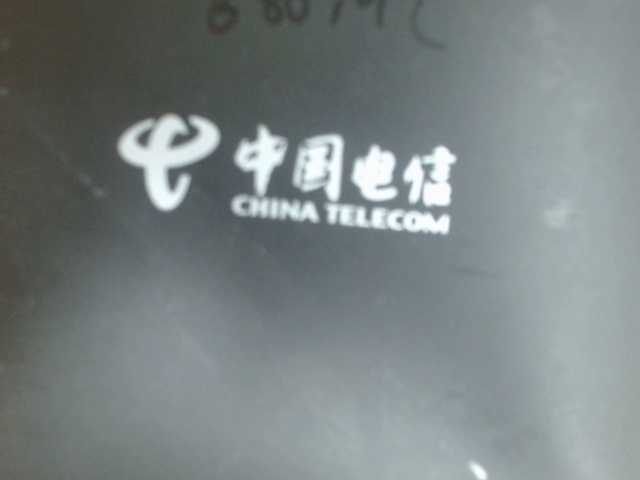AB_ChinaTelecom: (108, 90, 478, 256)
